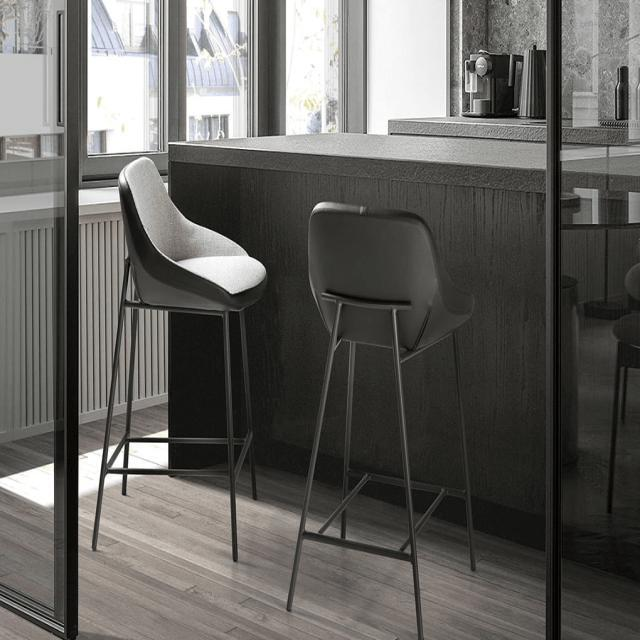chair: (286, 197, 477, 640), (92, 153, 270, 563), (298, 188, 484, 358), (116, 150, 282, 328)
